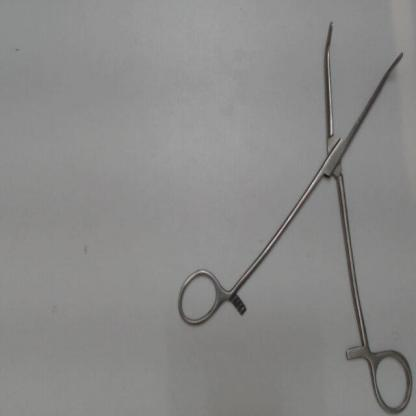Lahey Forceps: (171, 19, 415, 416)
